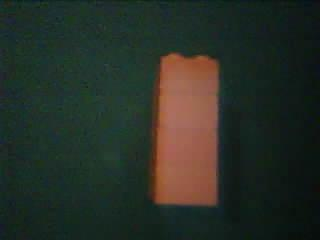lego: (146, 49, 220, 208)
